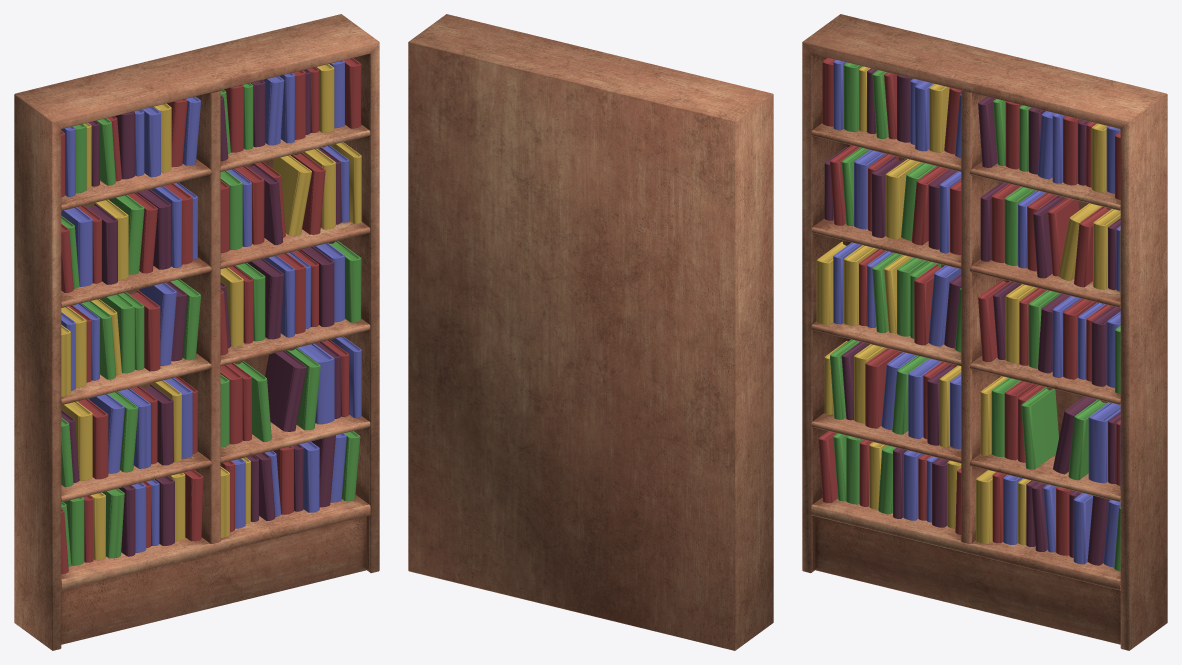
File: bookshelf1.glb
3 views of the same model, side by side, from view 1: azimuth 30°, elevation 25°; view 2: azimuth 150°, elevation 25°; view 3: azimuth 330°, elevation 25° (orthographic).
Visible parts, largest first — view 1: Object_2, Object_5, Object_7, Object_9, Object_3, Object_8, Object_4, Object_6, Object_10; view 2: Object_2; view 3: Object_2, Object_3, Object_7, Object_9, Object_5, Object_8, Object_4, Object_6, Object_10.
Boxes of the visible parts, bbox=[...] form: Object_2: bbox=[14, 14, 379, 650]; Object_5: bbox=[61, 73, 361, 552]; Object_7: bbox=[61, 83, 361, 567]; Object_9: bbox=[61, 69, 340, 556]; Object_3: bbox=[61, 131, 349, 574]; Object_8: bbox=[61, 64, 361, 560]; Object_4: bbox=[61, 58, 361, 292]; Object_6: bbox=[61, 60, 344, 267]; Object_10: bbox=[84, 203, 117, 284]; Object_2: bbox=[408, 14, 773, 650]; Object_2: bbox=[802, 14, 1167, 650]; Object_3: bbox=[818, 58, 1120, 555]; Object_7: bbox=[830, 62, 1120, 571]; Object_9: bbox=[824, 68, 1120, 565]; Object_5: bbox=[833, 78, 1120, 567]; Object_8: bbox=[816, 66, 1120, 544]; Object_4: bbox=[830, 72, 1120, 254]; Object_6: bbox=[833, 60, 1120, 253]; Object_10: bbox=[872, 156, 905, 237].
Size of the model in its own units: 1.84 by 2.84 by 0.3749.
Materials: 6 (1 with a texture image).
